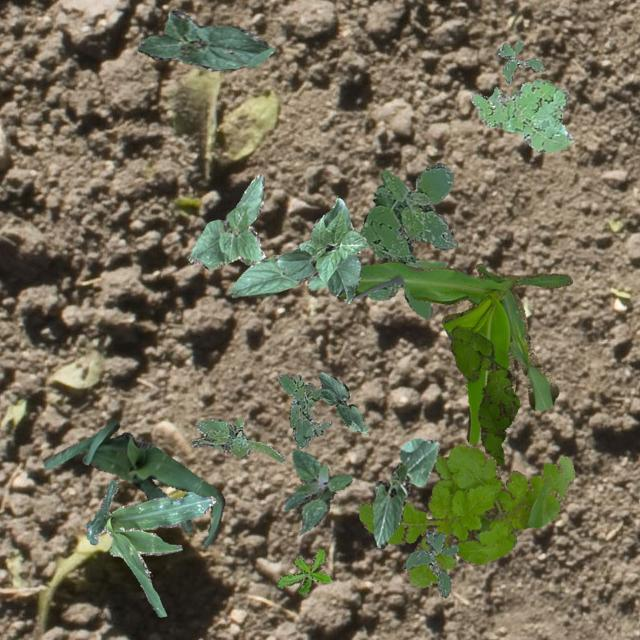crop: (336, 260, 572, 443), (42, 420, 224, 544), (84, 478, 214, 616), (276, 196, 368, 302), (136, 8, 274, 70), (372, 437, 439, 548), (188, 174, 264, 268), (230, 254, 326, 296), (318, 372, 368, 434)
weed: (356, 442, 574, 586), (359, 162, 456, 318), (449, 324, 518, 464), (470, 78, 572, 152), (282, 448, 350, 534), (276, 372, 331, 448), (190, 418, 284, 460), (402, 530, 458, 596), (276, 548, 331, 594), (496, 40, 544, 82), (511, 88, 517, 95)
